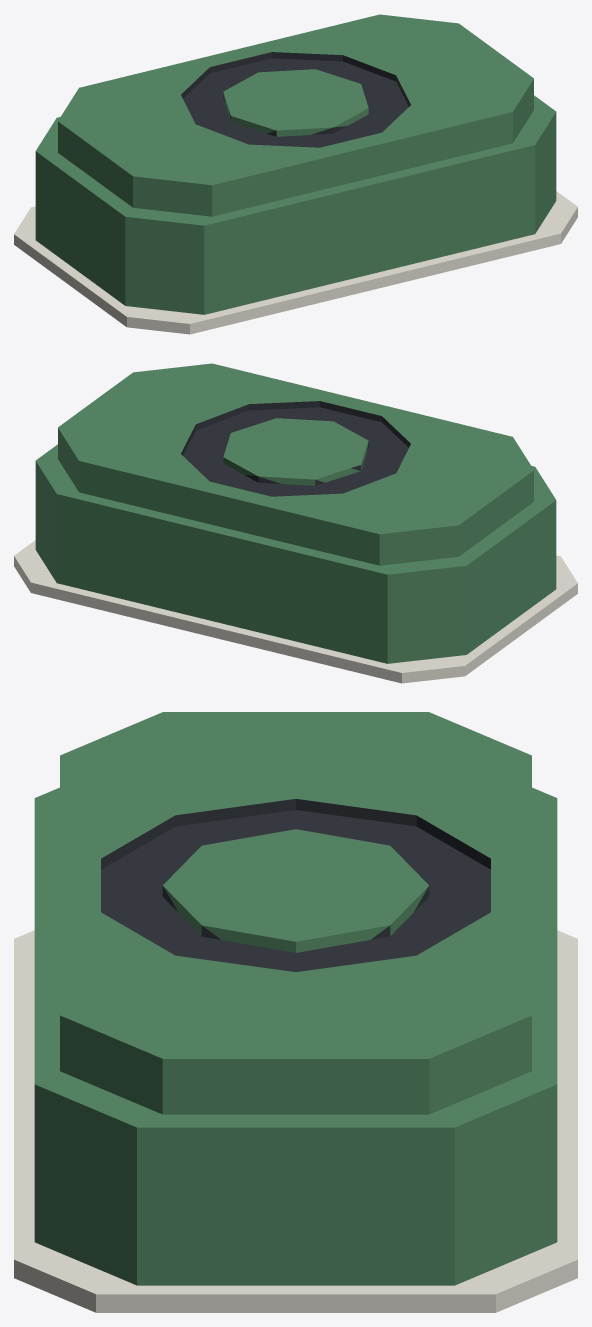
The model's file is soap_bar.glb.
3 views of the same model, one above another, from view 1: azimuth 30°, elevation 25°; view 2: azimuth 150°, elevation 25°; view 3: azimuth 270°, elevation 25° (orthographic). The views are drawn at different scales.
Visible parts, largest first — view 1: soap_bar; view 2: soap_bar; view 3: soap_bar.
Boxes of the visible parts, x1,y1,x2,y2 form: soap_bar: [14, 14, 577, 334]; soap_bar: [14, 363, 577, 683]; soap_bar: [14, 712, 577, 1312].
Size of the model in its own units: 0.09 by 0.025 by 0.055.
